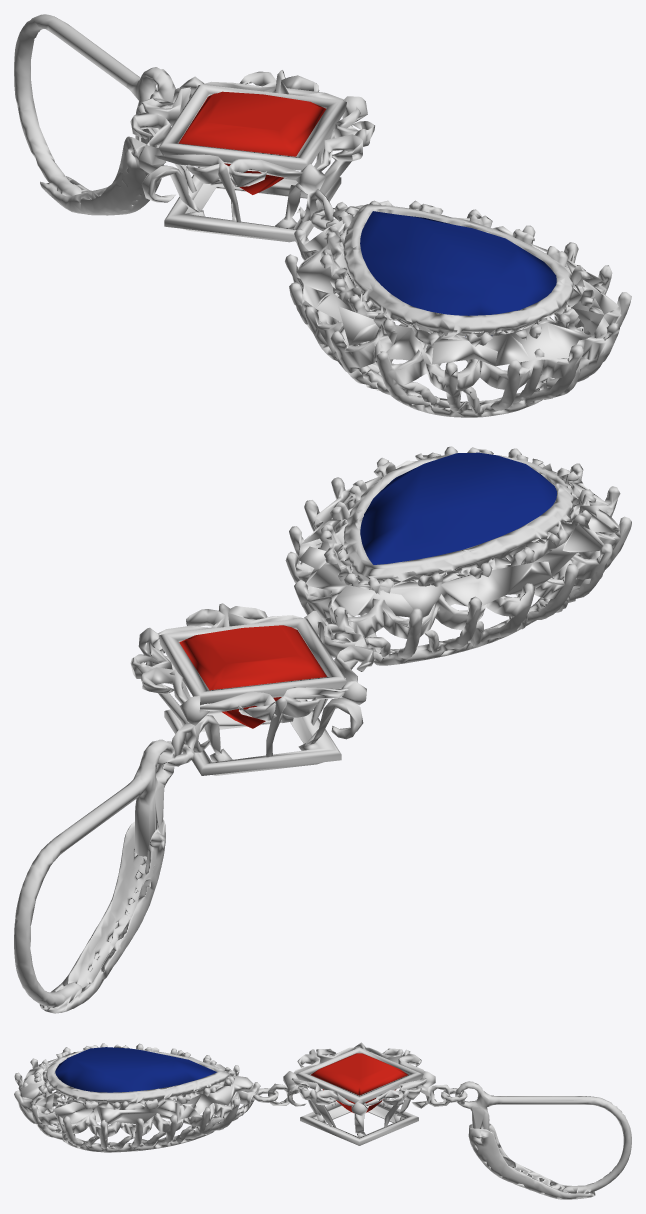
The picture shows the model from 3 angles, top to bottom: view 1: azimuth 30°, elevation 25°; view 2: azimuth 150°, elevation 25°; view 3: azimuth 270°, elevation 25°; orthographic projection. The views are drawn at different scales.
Bounding box in the file's own units: 0.9776 × 0.7902 × 3.21.
